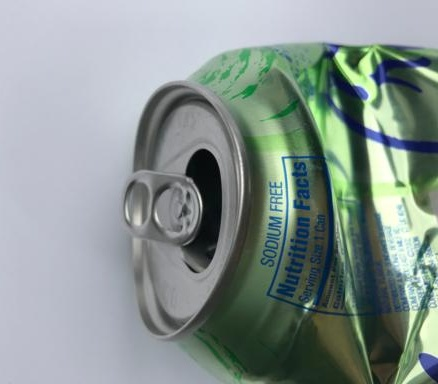Metal: (107, 34, 438, 345)
